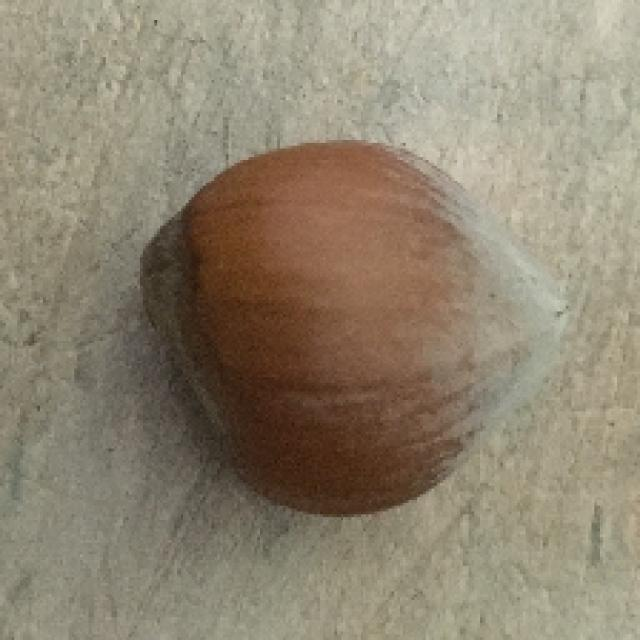qualityHazelnut: (144, 137, 558, 525)
